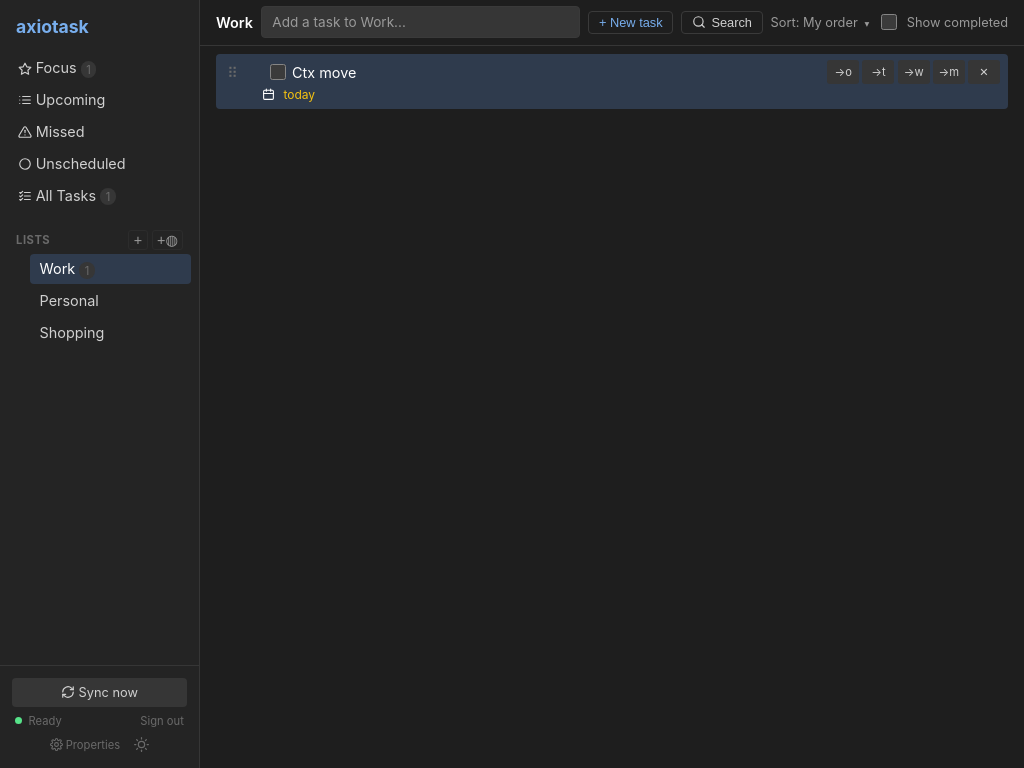
Test: GH#16: Move task between lists › Toast confirmation › shows toast after moving task via context menu
The width and height of the screenshot is (1024, 768).
expect the text "Ctx move" is shown: met, box [292,64,356,81]
Right-click the element with class "task-widget": [612, 81] box [216,54,1008,109]
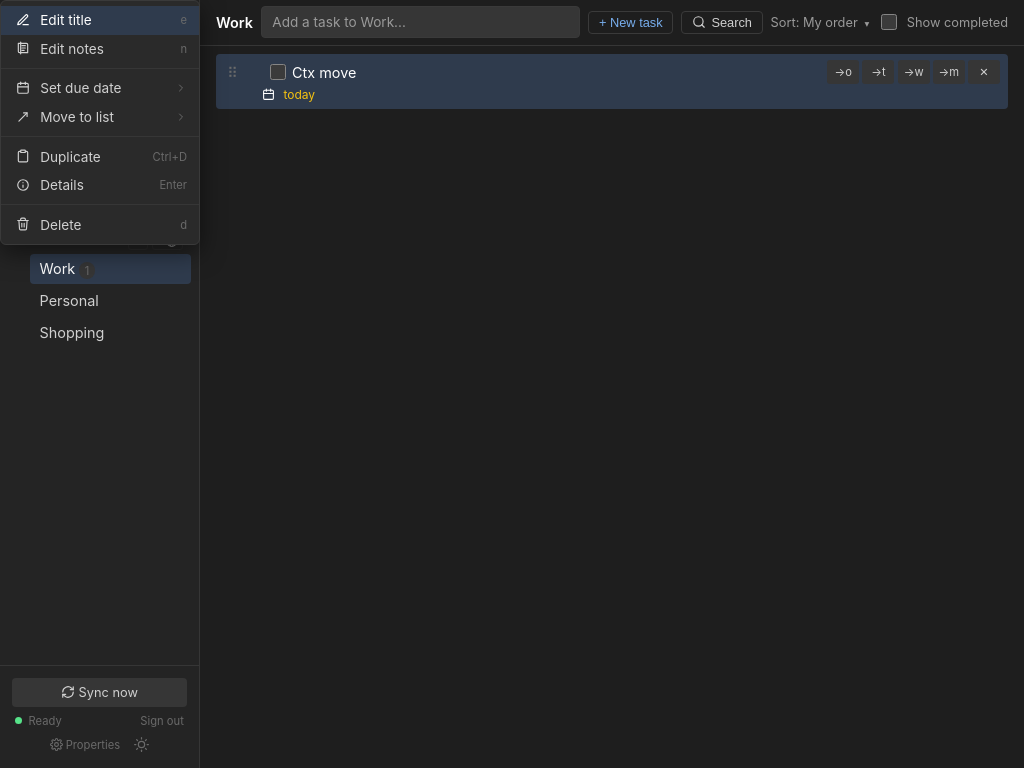
expect the text "Move to list" is shown: met, box [40,109,114,125]
Click to open submenu (submenus expand on click, not hover)
Click the text "Move to list": [101, 117] box [16,109,187,125]
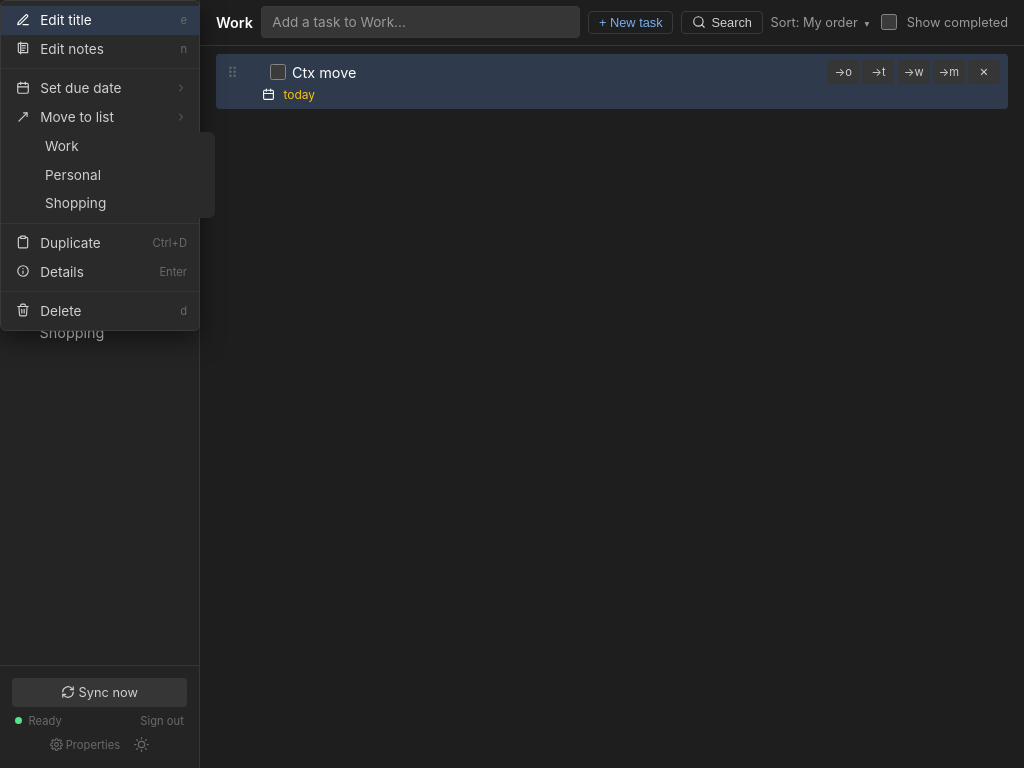
expect the element with class "submenu" is shown: met, box [17,132,215,218]
Click the element with class "menu-item" showing "Personal": [73, 175] box [45,167,101,183]
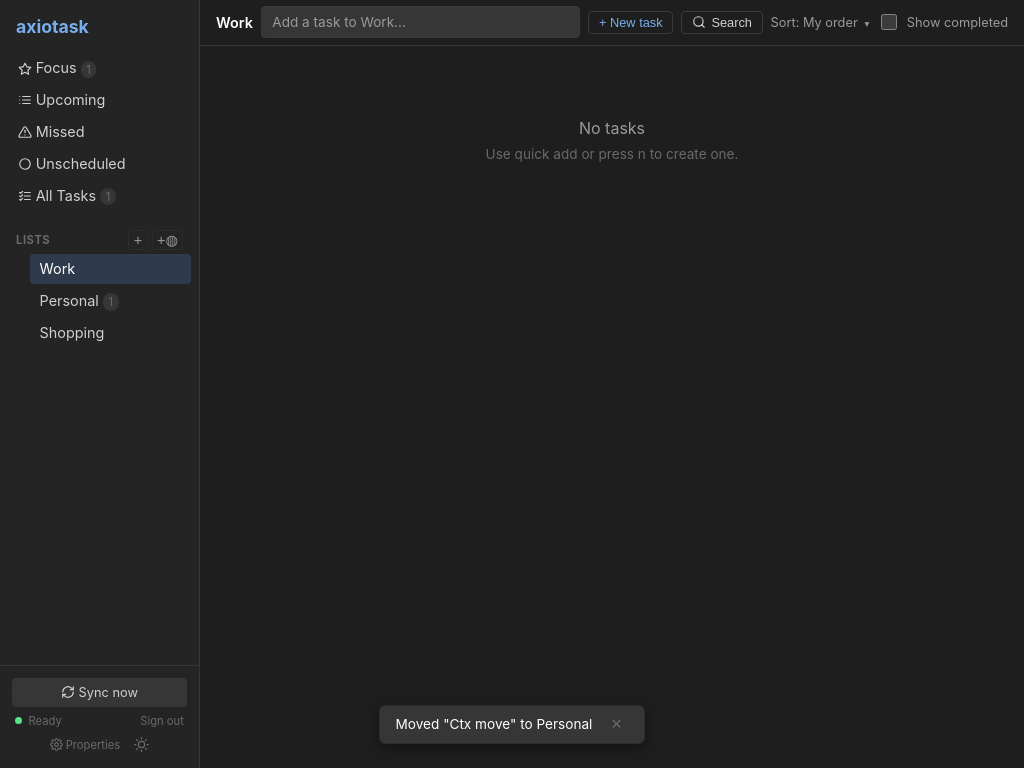
expect the text "Moved \"Ctx move\" to Personal" is shown: met, box [396,716,592,732]
